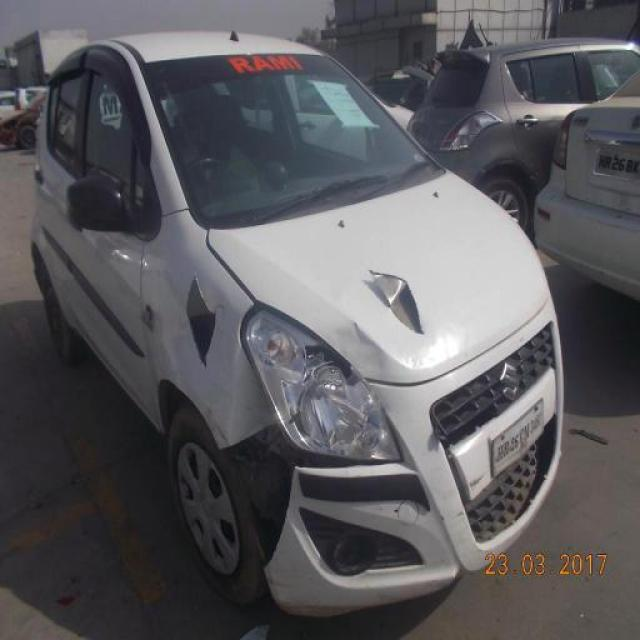car damage: (221, 424, 376, 469), (291, 338, 363, 404), (369, 270, 426, 334), (186, 275, 216, 364)
